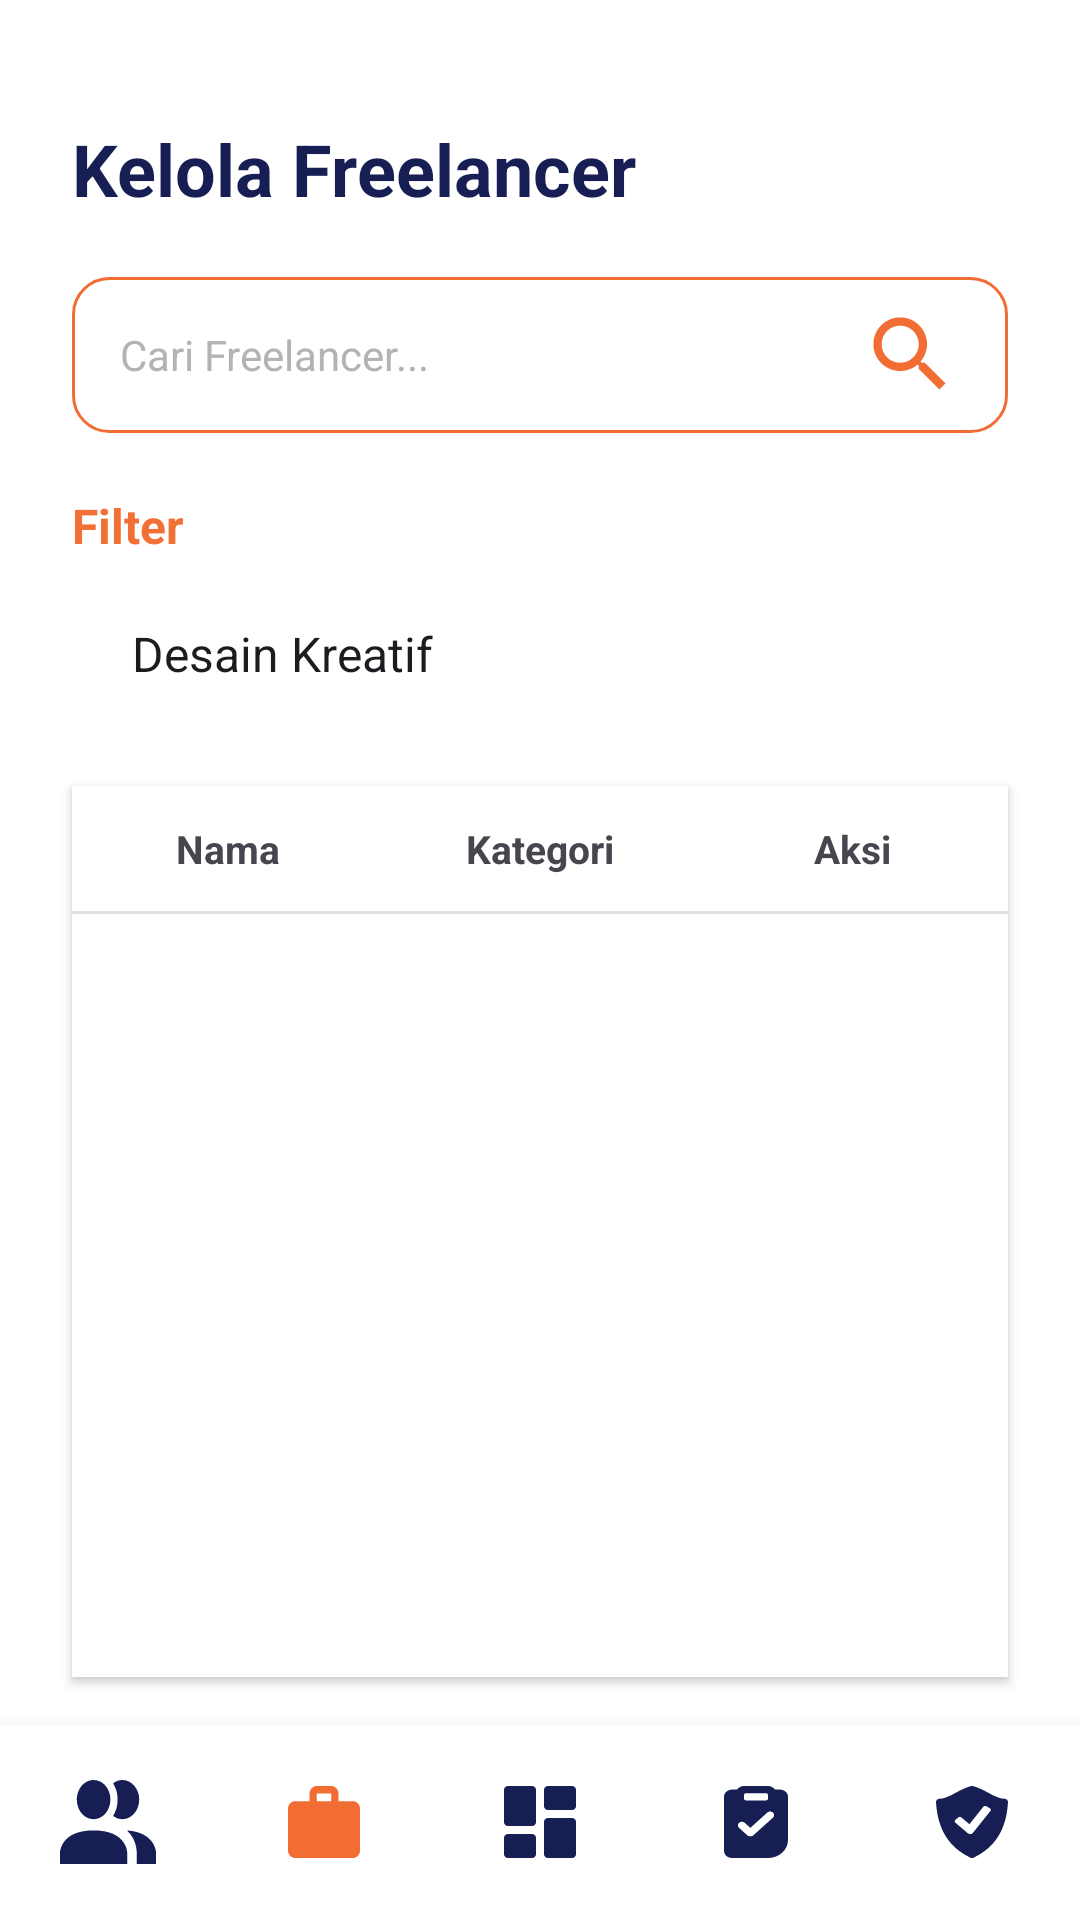

Icons on this 1080px x 1920px Android screen, each with its box as (x1, y1, x2, y2):
bag: (288, 1786, 360, 1858)
booking: (724, 1786, 788, 1858)
dashboardadmin: (504, 1786, 576, 1858)
klpengguna: (60, 1780, 156, 1864)
pengajuan: (936, 1786, 1008, 1858)
